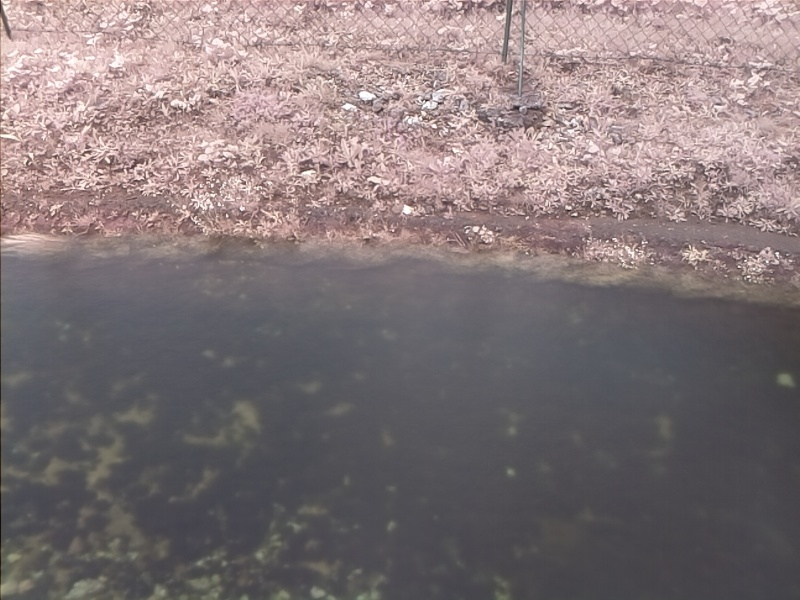Water: (1, 233, 798, 600)
